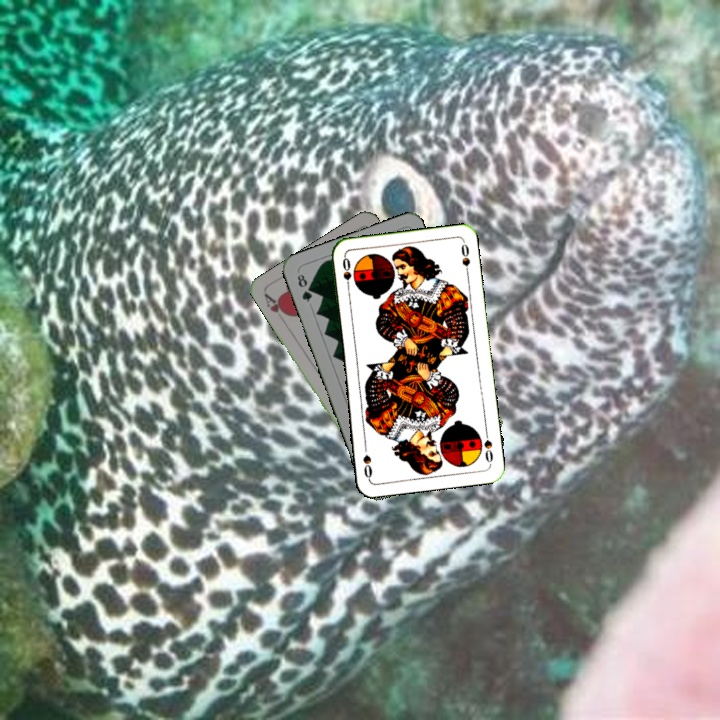G8: (293, 270, 315, 305)
HA: (260, 289, 291, 325)
SO: (338, 253, 354, 294), (480, 426, 496, 467)
